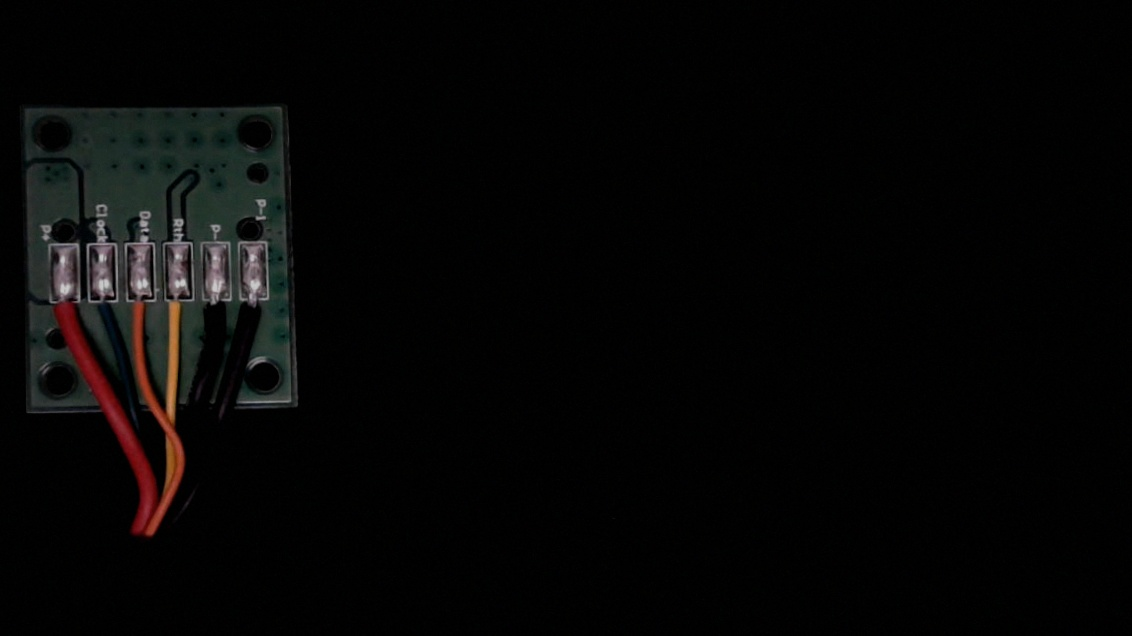Black: (200, 287, 230, 344)
Black1: (239, 287, 271, 348)
Green: (85, 285, 118, 349)
Orange: (124, 286, 155, 352)
Red: (49, 285, 83, 349)
Yellow: (162, 285, 196, 353)
